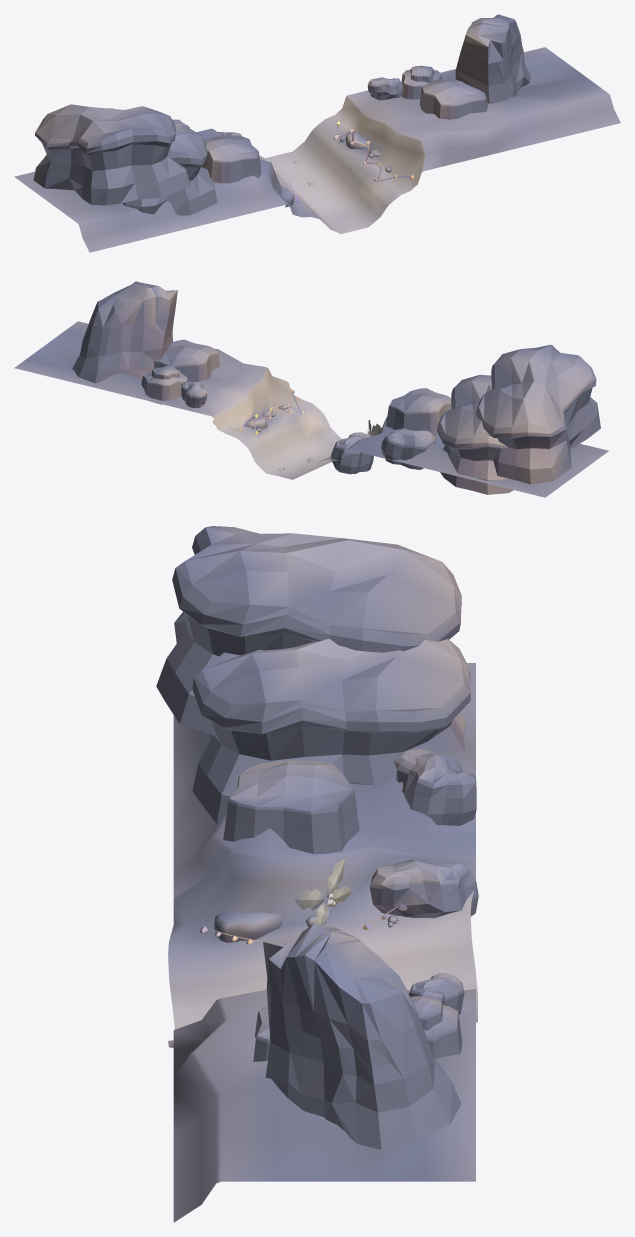
The model's file is Arctic_Luge_Straight_B.glb.
The picture shows the model from 3 angles, top to bottom: view 1: azimuth 30°, elevation 25°; view 2: azimuth 150°, elevation 25°; view 3: azimuth 270°, elevation 25°; orthographic projection. The views are drawn at different scales.
Parts seen in each view (by area): view 1: Arctic_Luge_Straight_B, Arctic_Luge_LargeRock_prop (1), Arctic_Luge_LargeIceRock_prop, Arctic_Luge_LargeRock_prop, Arctic_Luge_SmallIceRock_prop, Arctic_Luge_SmallIceRock_prop (3), Arctic_Luge_SmalRock_prop (2), Arctic_Luge_SmallIceRock_prop (1), Arctic_Luge_SmallIceRock_prop (2), Arctic_Stringlights02_holiday; view 2: Arctic_Luge_Straight_B, Arctic_Luge_LargeRock_prop (1), Arctic_Luge_LargeIceRock_prop, Arctic_Luge_LargeRock_prop, Arctic_Luge_SmallIceRock_prop, Arctic_Luge_SmallIceRock_prop (3), Arctic_Luge_SmalRock_prop, Arctic_Luge_SmalRock_prop (1), Arctic_Luge_SmallIceRock_prop (1), Arctic_Luge_SmalRock_prop (2), Arctic_Stringlights02_holiday, Arctic_Luge_SmallIceRock_prop (2); view 3: Arctic_Luge_Straight_B, Arctic_Luge_LargeRock_prop (1), Arctic_Luge_LargeRock_prop, Arctic_Luge_LargeIceRock_prop, Arctic_Luge_SmallIceRock_prop, Arctic_Luge_SmalRock_prop (1), Arctic_Luge_SmalRock_prop, Arctic_Holly_01_holiday, Arctic_Luge_SmallIceRock_prop (1), Arctic_Luge_SmalRock_prop (2).
Boxes of the visible parts, x1,y1,x2,y2 form: Arctic_Luge_Straight_B: [14, 47, 620, 252]; Arctic_Luge_LargeRock_prop (1): [33, 104, 190, 205]; Arctic_Luge_LargeIceRock_prop: [455, 14, 530, 103]; Arctic_Luge_LargeRock_prop: [122, 125, 217, 215]; Arctic_Luge_SmallIceRock_prop: [201, 135, 261, 183]; Arctic_Luge_SmallIceRock_prop (3): [420, 77, 487, 119]; Arctic_Luge_SmalRock_prop (2): [367, 77, 402, 100]; Arctic_Luge_SmallIceRock_prop (1): [401, 69, 442, 99]; Arctic_Luge_SmallIceRock_prop (2): [410, 65, 434, 82]; Arctic_Stringlights02_holiday: [334, 117, 414, 181]; Arctic_Luge_Straight_B: [14, 321, 608, 497]; Arctic_Luge_LargeRock_prop (1): [475, 344, 600, 484]; Arctic_Luge_LargeIceRock_prop: [72, 281, 177, 383]; Arctic_Luge_LargeRock_prop: [437, 374, 513, 494]; Arctic_Luge_SmallIceRock_prop: [386, 388, 451, 435]; Arctic_Luge_SmallIceRock_prop (3): [153, 339, 220, 381]; Arctic_Luge_SmalRock_prop: [381, 428, 435, 469]; Arctic_Luge_SmalRock_prop (1): [331, 432, 373, 474]; Arctic_Luge_SmallIceRock_prop (1): [141, 370, 187, 404]; Arctic_Luge_SmalRock_prop (2): [181, 381, 207, 407]; Arctic_Stringlights02_holiday: [213, 389, 304, 435]; Arctic_Luge_SmallIceRock_prop (2): [151, 366, 179, 379]; Arctic_Luge_Straight_B: [168, 663, 477, 1222]; Arctic_Luge_LargeRock_prop (1): [156, 526, 461, 736]; Arctic_Luge_LargeRock_prop: [192, 639, 470, 823]; Arctic_Luge_LargeIceRock_prop: [263, 924, 461, 1149]; Arctic_Luge_SmallIceRock_prop: [223, 760, 359, 854]; Arctic_Luge_SmalRock_prop (1): [369, 859, 478, 918]; Arctic_Luge_SmalRock_prop: [394, 749, 476, 825]; Arctic_Holly_01_holiday: [294, 859, 351, 925]; Arctic_Luge_SmallIceRock_prop (1): [424, 1005, 462, 1058]; Arctic_Luge_SmalRock_prop (2): [409, 973, 464, 1014].
Bounding box in the file's own units: 25.98 × 7.11 × 6.83.
